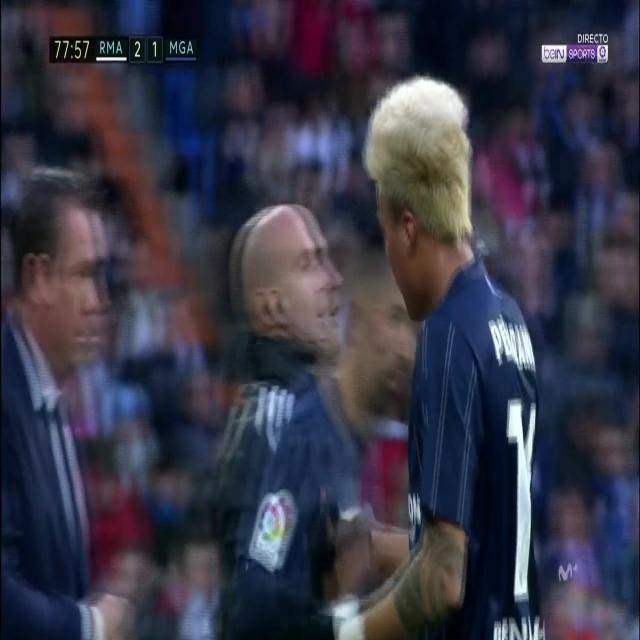Player: (357, 66, 555, 640)
